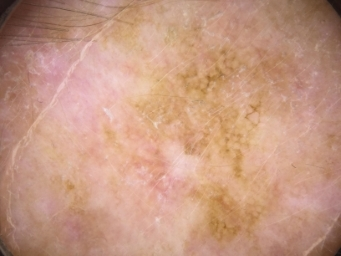nevus: (136, 43, 272, 180), (189, 183, 276, 246)
